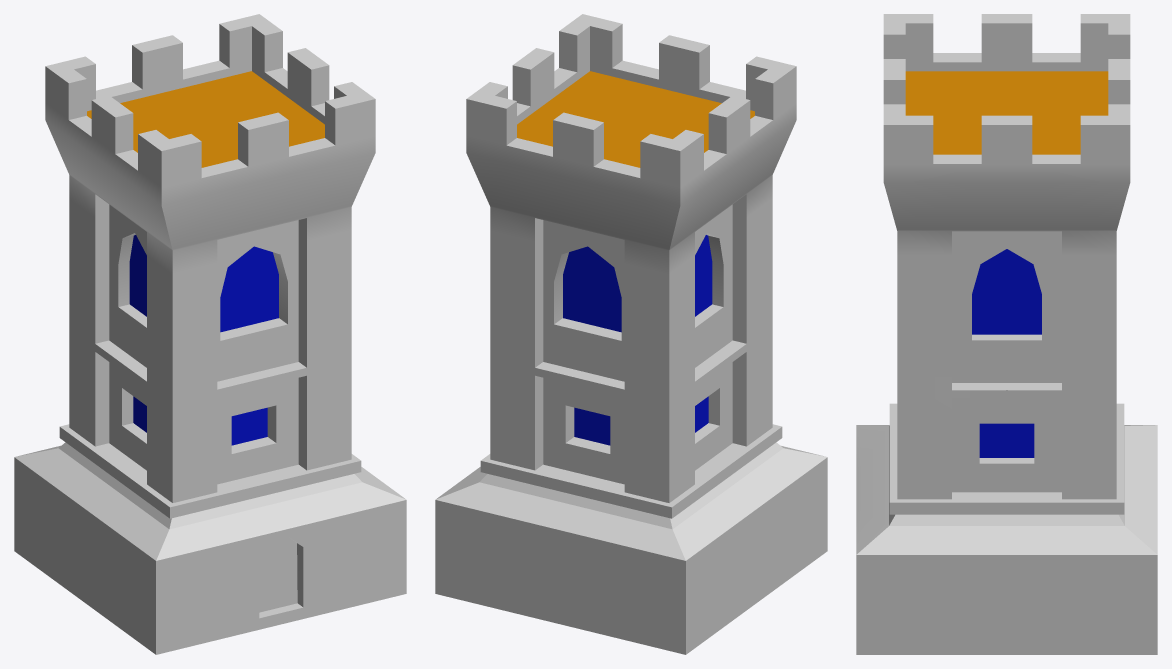
The model's file is arrow_tower.fbx.
The picture shows the model from 3 angles, left to right: view 1: azimuth 30°, elevation 25°; view 2: azimuth 150°, elevation 25°; view 3: azimuth 270°, elevation 25°; orthographic projection. The views are drawn at different scales.
Visible parts, largest first — view 1: arrow tower; view 2: arrow tower; view 3: arrow tower.
Boxes of the visible parts, x1,y1,x2,y2 form: arrow tower: (14,14,406,654); arrow tower: (435,14,827,654); arrow tower: (856,14,1157,654).
Size of the model in its own units: 375 by 699 by 367.
